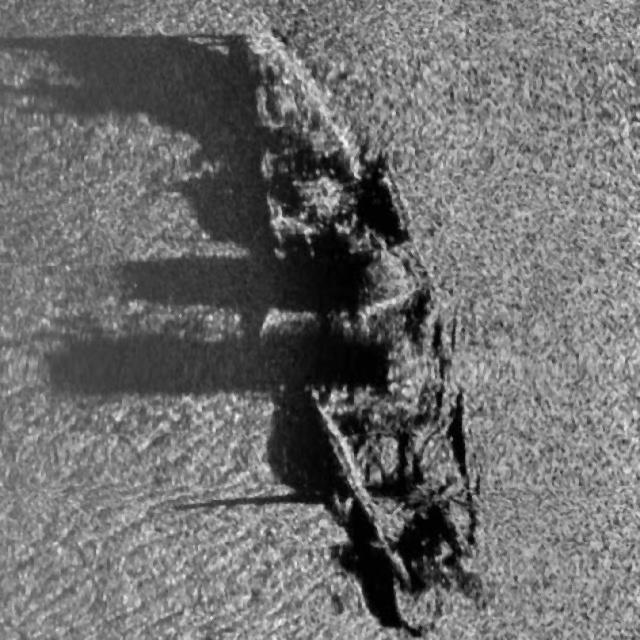Ship: (221, 20, 498, 616)
